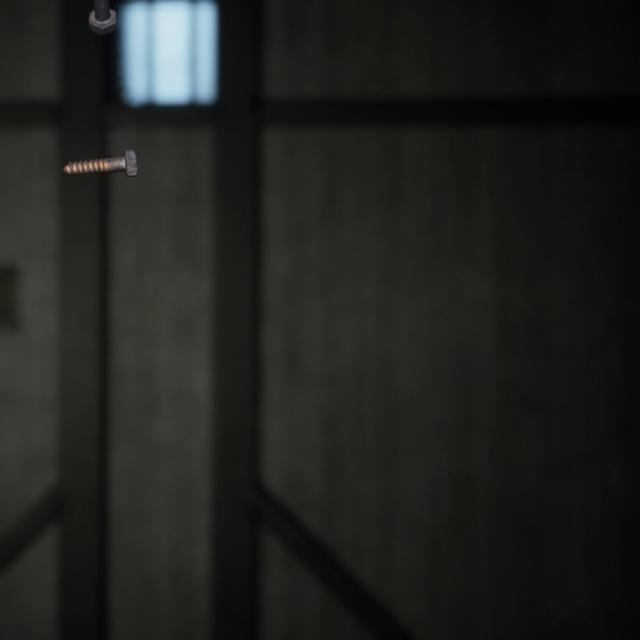bolt: (58, 131, 142, 167), (84, 0, 121, 33)
